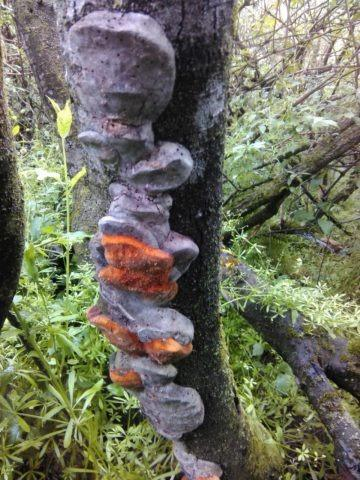Plum tinder fungus: (64, 15, 204, 292), (85, 297, 231, 479)
